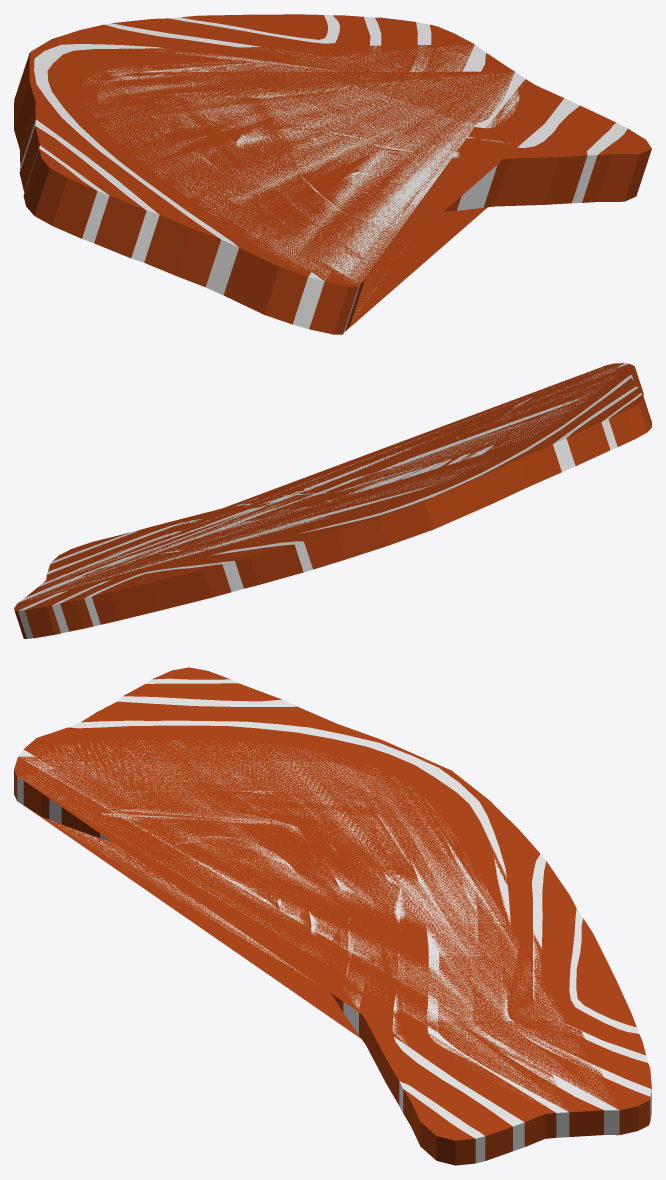
File: salmon_cut.fbx
3 renders of one model, top to bottom at view 1: azimuth 30°, elevation 25°; view 2: azimuth 150°, elevation 25°; view 3: azimuth 270°, elevation 25°, orthographic. The views are drawn at different scales.
Visible parts, largest first — view 1: Plan.012; view 2: Plan.012; view 3: Plan.012.
Boxes of the visible parts, bbox=[...] form: Plan.012: bbox=[14, 14, 651, 334]; Plan.012: bbox=[14, 363, 651, 638]; Plan.012: bbox=[14, 667, 651, 1165].
Size of the model in its own units: 145 by 60.24 by 145.
